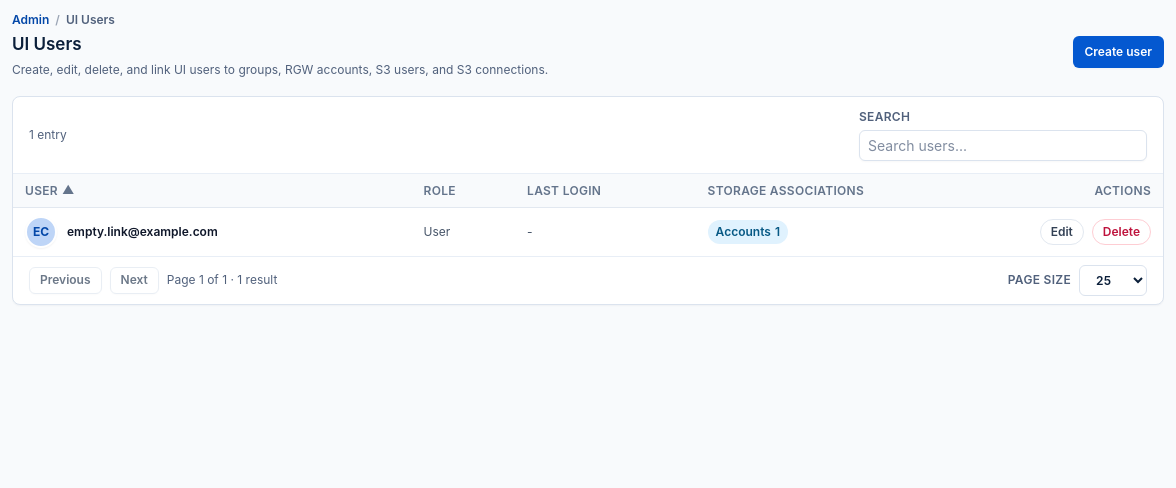
UsersPage modal tabs › keeps the required user Manager role while Portal is off
The image size is (1176, 488).
Click the button "Edit": (1062, 232) [1040,219,1084,245]
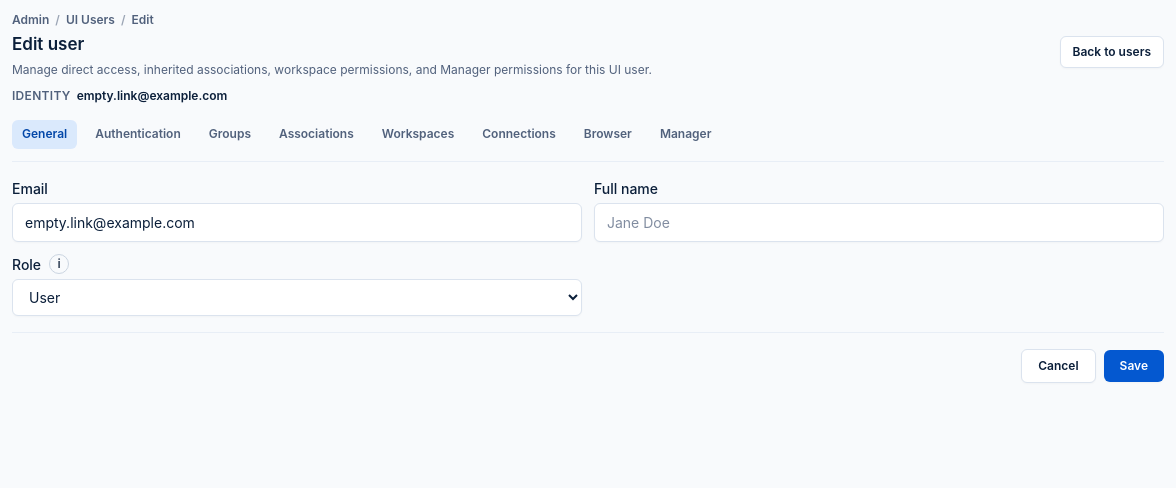
Click the tab "Associations": (316, 134) [269,120,364,148]
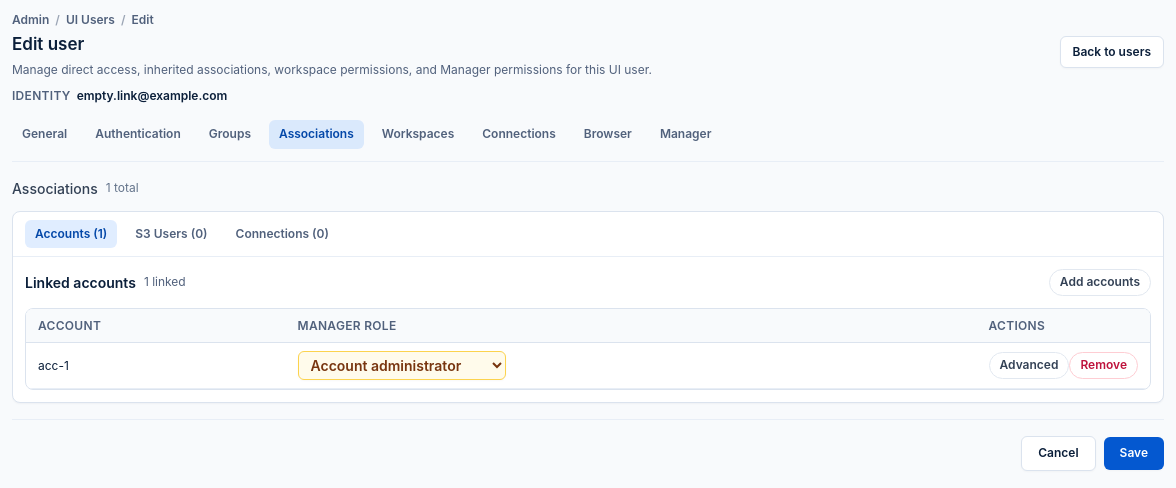
Expected: the dropdown named "Manager role for acc-1" shows "Account administrator", [298,351,506,380]
